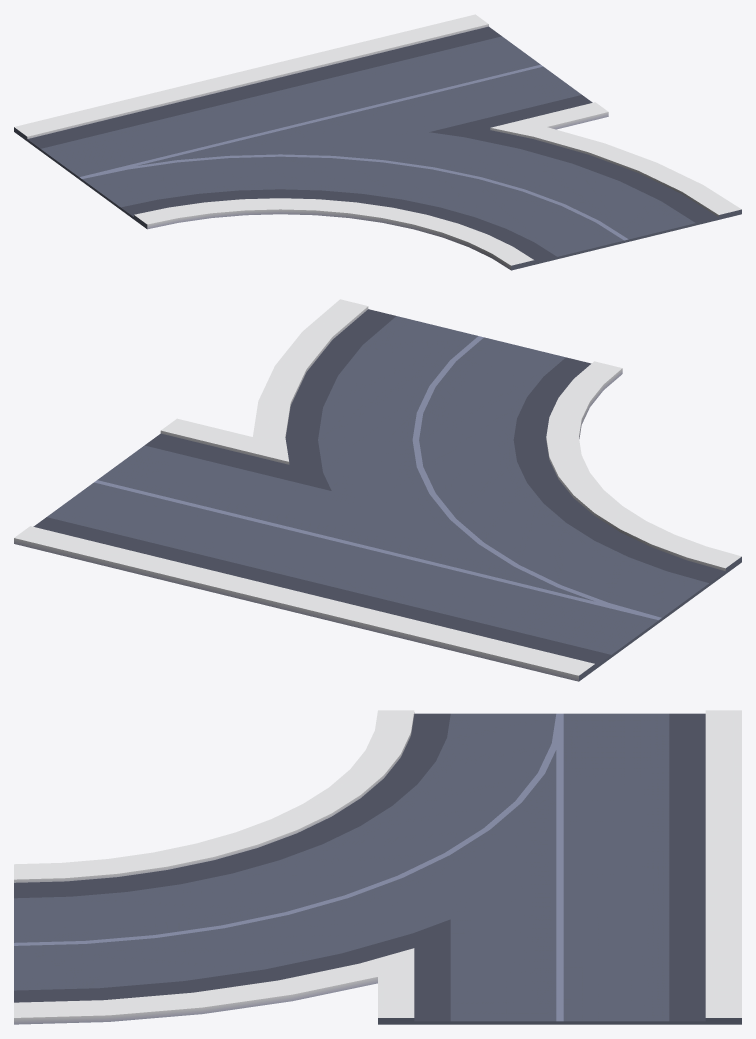
The model's file is road-curve-intersection.draco.glb.
3 renders of one model, top to bottom at view 1: azimuth 30°, elevation 25°; view 2: azimuth 150°, elevation 25°; view 3: azimuth 270°, elevation 25°, orthographic. The views are drawn at different scales.
Visible parts, largest first — view 1: road-curve-intersection; view 2: road-curve-intersection; view 3: road-curve-intersection.
Boxes of the visible parts, x1,y1,x2,y2 form: road-curve-intersection: (14,14,741,270); road-curve-intersection: (14,299,741,681); road-curve-intersection: (14,710,741,1024).
Bounding box in the file's own units: 2 × 0.02 × 2.
1 material, 1 textured.
